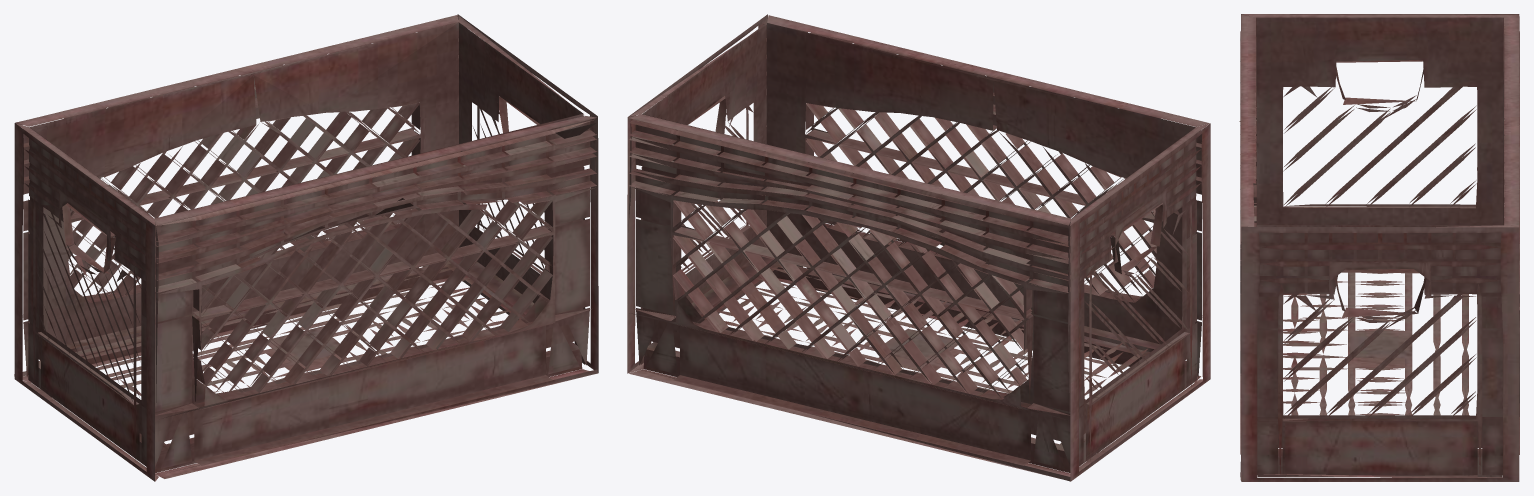
The model's file is ph_plastic_crate.gltf.
The picture shows the model from 3 angles, left to right: view 1: azimuth 30°, elevation 25°; view 2: azimuth 150°, elevation 25°; view 3: azimuth 270°, elevation 25°; orthographic projection.
Visible parts, largest first — view 1: Body; view 2: Body; view 3: Body.
Part boxes in pixels (x1,y1,x2,y2): Body: [14, 14, 598, 481]; Body: [627, 14, 1210, 481]; Body: [1239, 14, 1519, 481].
Size of the model in its own units: 0.4811 by 0.2666 by 0.2663.
1 material, 1 textured.
